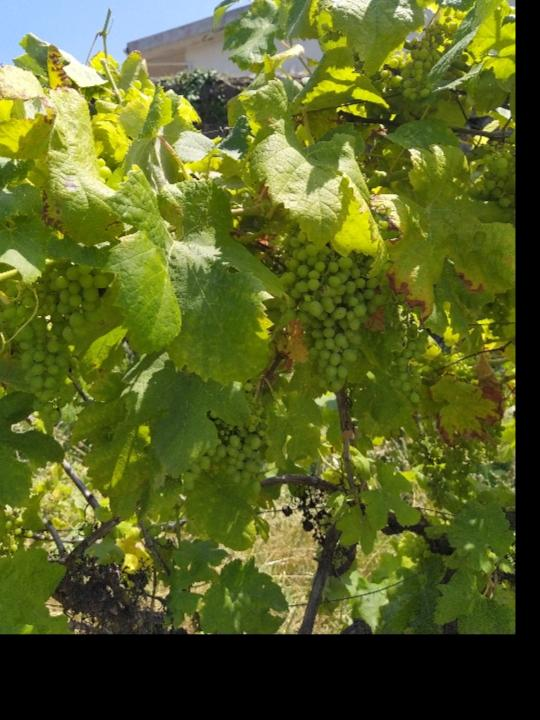grape: (276, 216, 381, 393), (0, 262, 111, 424), (180, 398, 267, 496)
